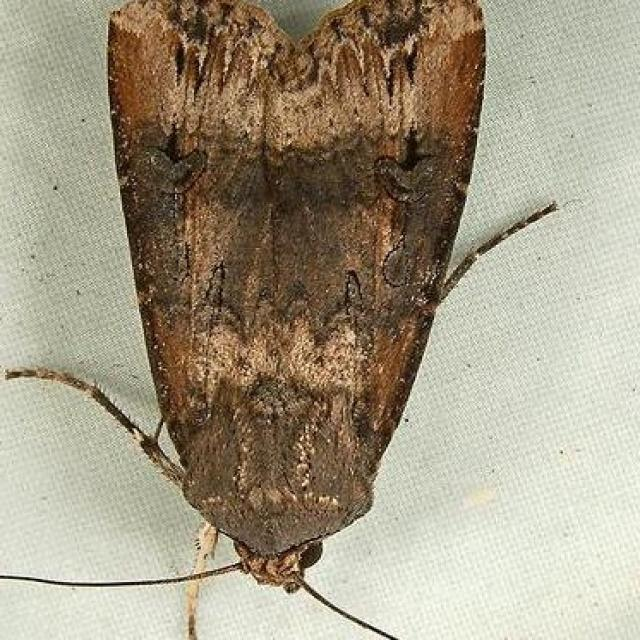black cutworm: (66, 6, 499, 614)
